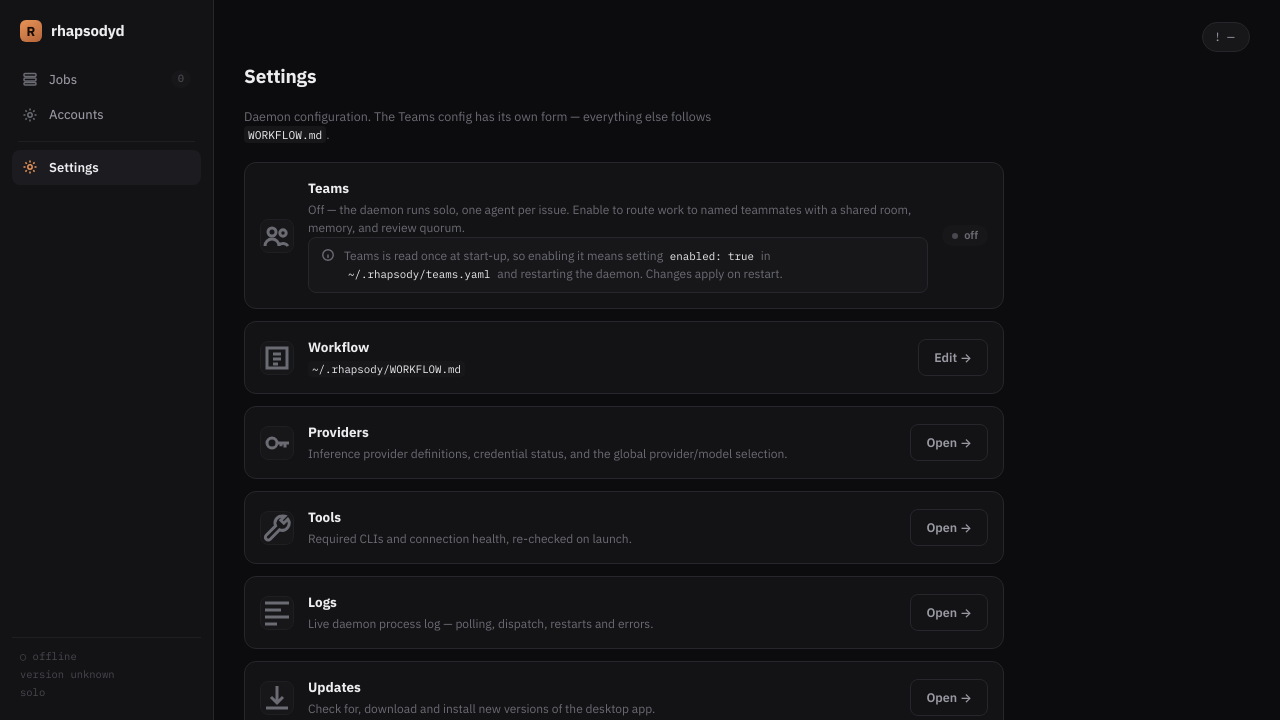
Test: Settings' Workflow row (§8, STUDIO-690) › opens the WORKFLOW.md editor, which highlights Settings
This screenshot has width=1280, height=720.
Click the button "Edit →" at (953, 358), box top-left (918, 339), bottom-right (988, 376)
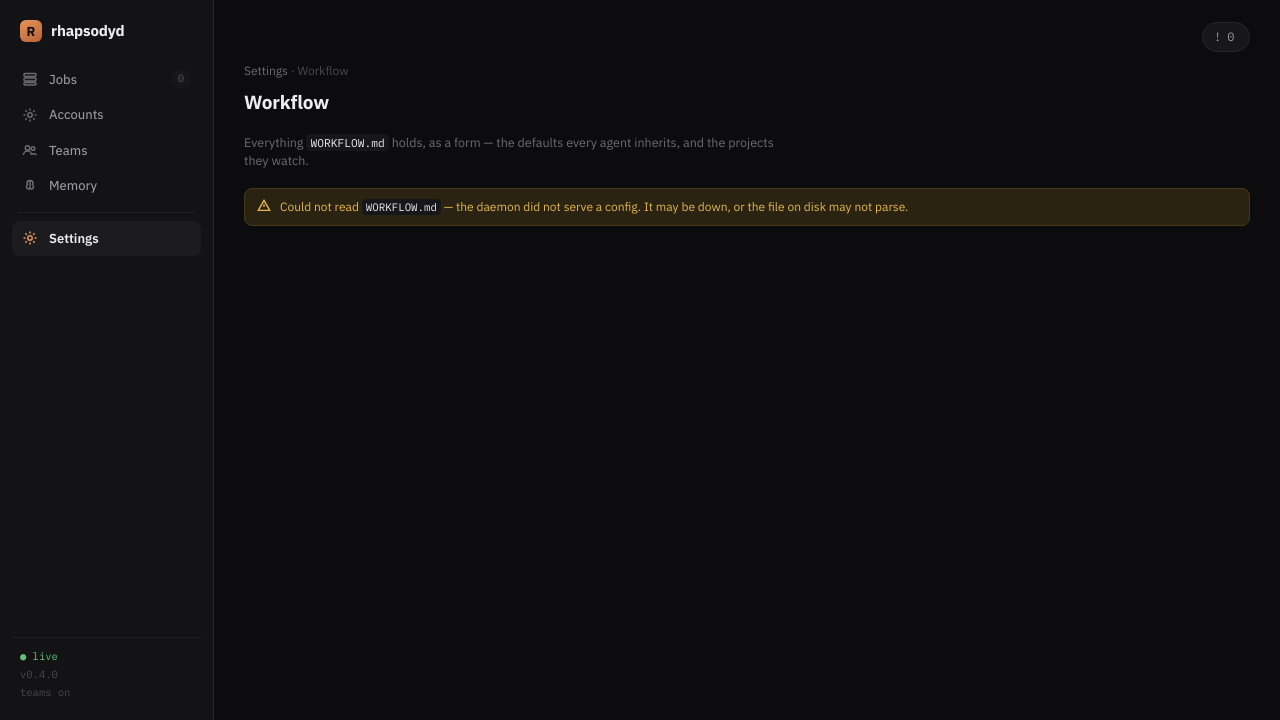
Check: the heading reads "Workflow", box top-left (244, 90), bottom-right (329, 114)
